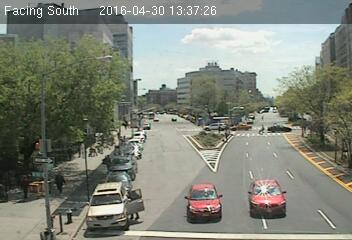neg: (206, 147, 239, 190), (271, 173, 293, 204), (122, 130, 144, 159), (163, 139, 184, 167), (106, 186, 127, 214), (175, 188, 196, 216)
pos: (49, 168, 69, 195), (15, 175, 35, 201), (257, 122, 267, 134), (260, 112, 267, 122)
